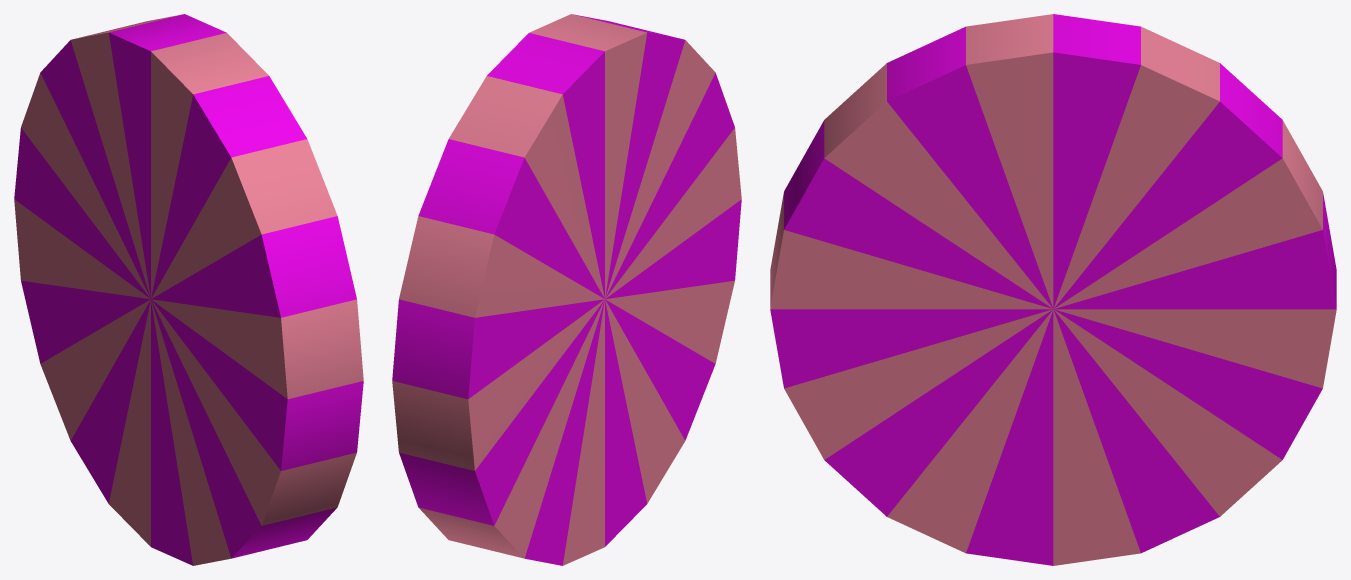
File: circlestripes.fbx
The picture shows the model from 3 angles, left to right: view 1: azimuth 30°, elevation 25°; view 2: azimuth 150°, elevation 25°; view 3: azimuth 270°, elevation 25°; orthographic projection. The views are drawn at different scales.
Visible parts, largest first — view 1: pCylinder1; view 2: pCylinder1; view 3: pCylinder1.
Part boxes in pixels (<box>): pCylinder1: <box>14,14,363,565</box>; pCylinder1: <box>392,14,741,565</box>; pCylinder1: <box>770,14,1336,565</box>.
Bounding box in the file's own units: 0.3209 × 2 × 2.
